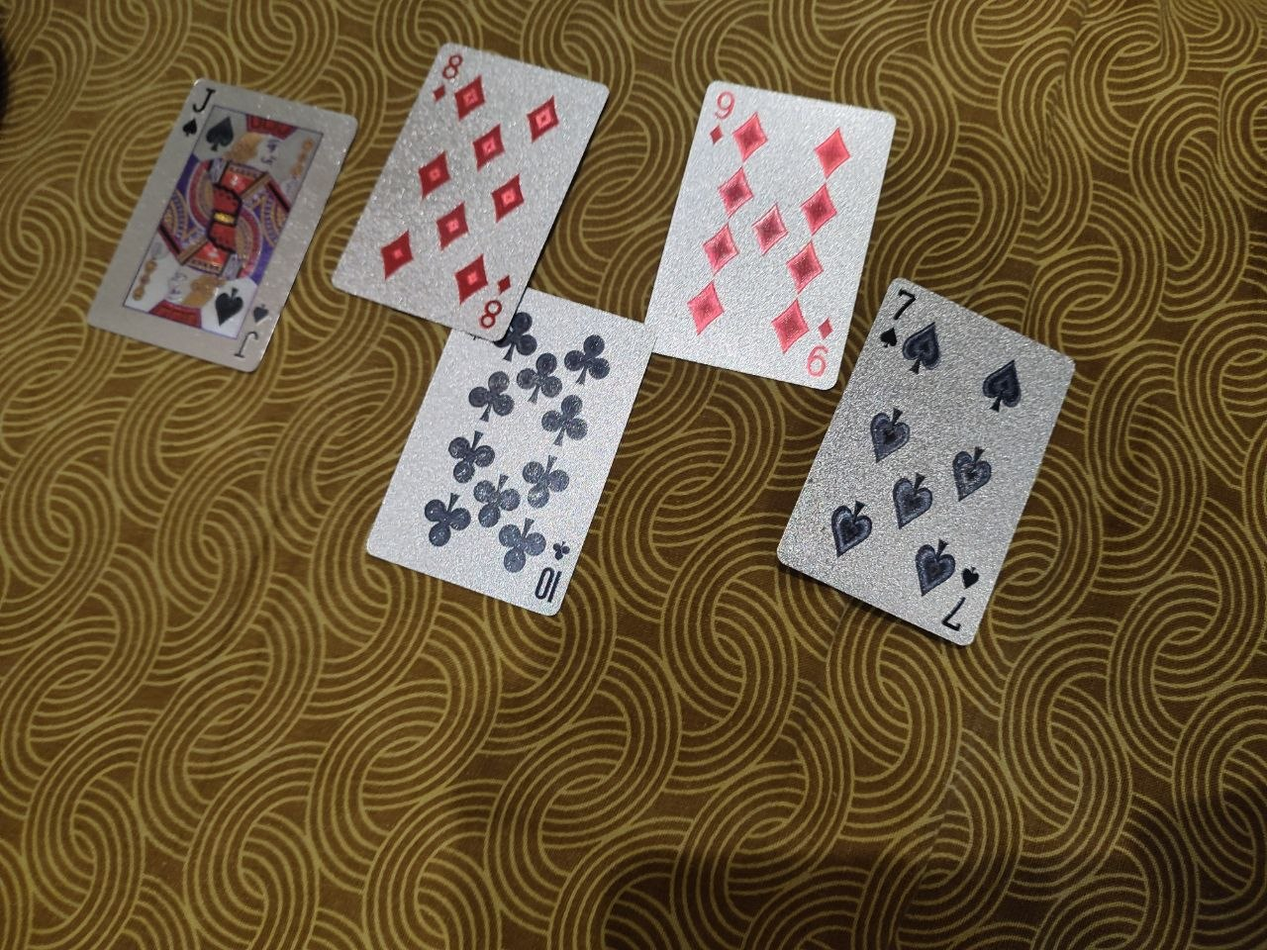10C: (366, 285, 658, 615)
7S: (776, 278, 1077, 649)
8D: (334, 40, 613, 340)
9D: (645, 78, 896, 390)
JS: (85, 77, 360, 373)
